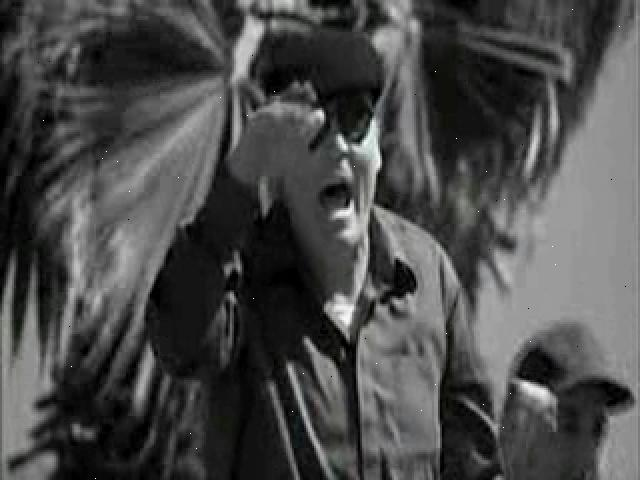T: (150, 27, 504, 479)
